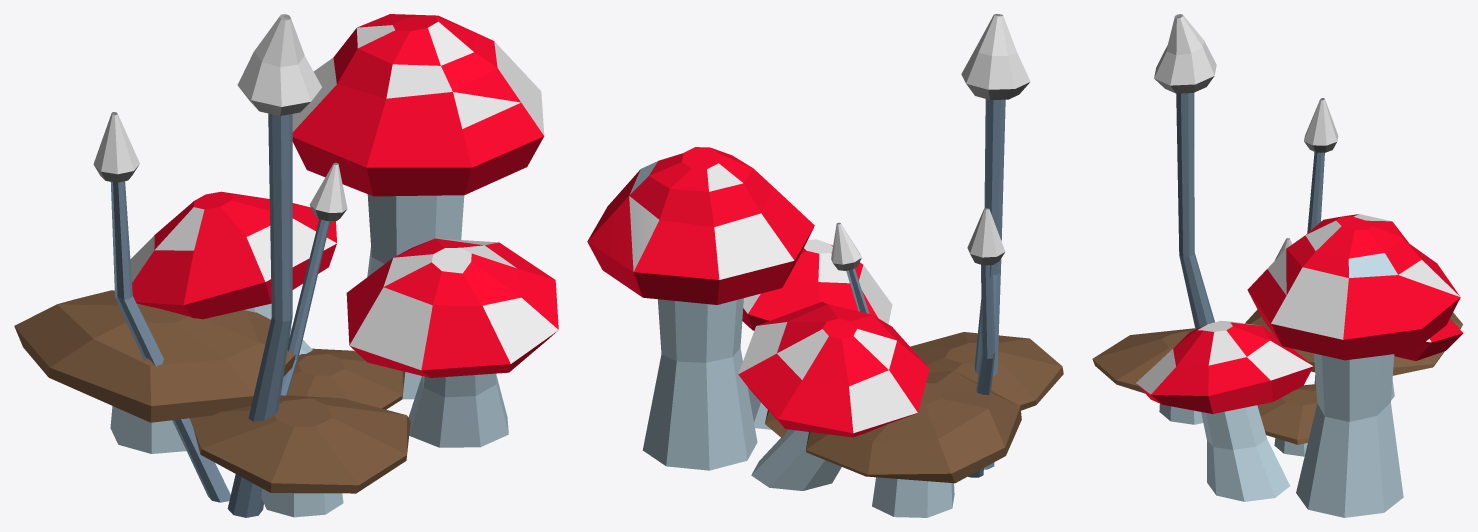
The model's file is Mushrooms.fbx.
3 renders of one model, left to right at view 1: azimuth 30°, elevation 25°; view 2: azimuth 150°, elevation 25°; view 3: azimuth 270°, elevation 25°, orthographic. The views are drawn at different scales.
Parts seen in each view (by area): view 1: Mushroom 2, Mushroom 3, Mushroom; view 2: Mushroom 2, Mushroom 3, Mushroom; view 3: Mushroom 2, Mushroom, Mushroom 3.
Part boxes in pixels (bbox=[...]): Mushroom 2: bbox=[130, 14, 558, 447]; Mushroom 3: bbox=[14, 290, 410, 517]; Mushroom: bbox=[93, 14, 347, 517]; Mushroom 2: bbox=[587, 147, 929, 490]; Mushroom 3: bbox=[765, 332, 1063, 517]; Mushroom: bbox=[831, 14, 1030, 477]; Mushroom 2: bbox=[1136, 214, 1463, 517]; Mushroom: bbox=[1154, 14, 1338, 329]; Mushroom 3: bbox=[1092, 309, 1462, 456].
Size of the model in its own units: 77.98 by 79.26 by 66.54.
